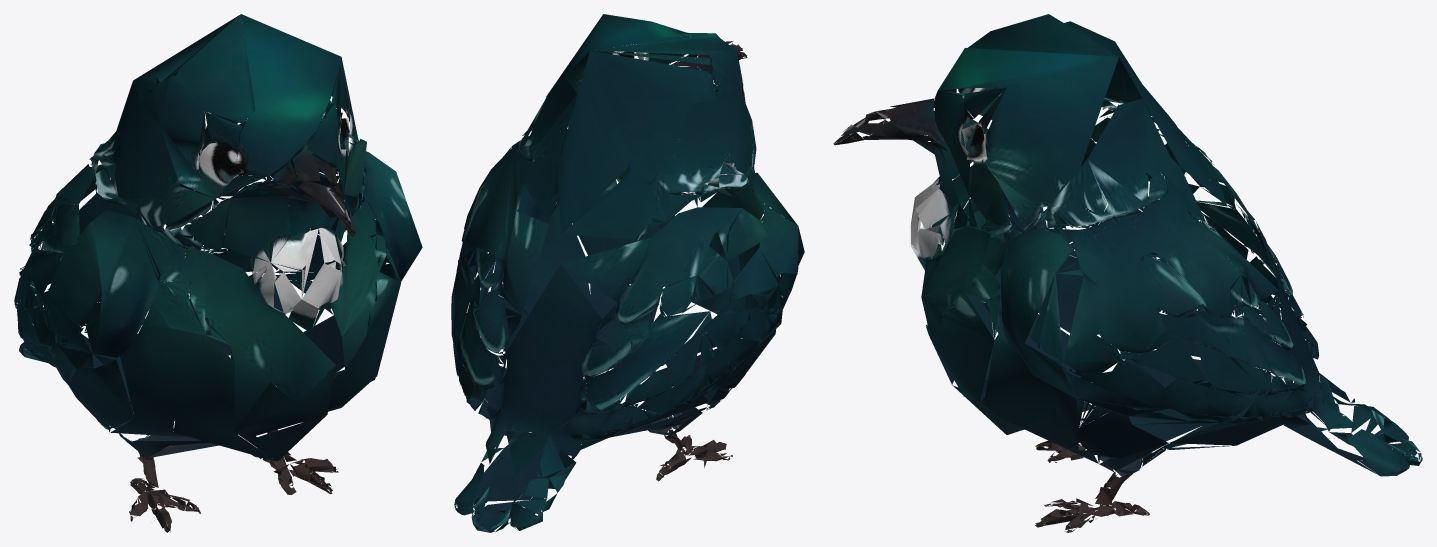
File: tui.glb
The picture shows the model from 3 angles, left to right: view 1: azimuth 30°, elevation 25°; view 2: azimuth 150°, elevation 25°; view 3: azimuth 270°, elevation 25°; orthographic projection. The views are drawn at different scales.
Visible parts, largest first — view 1: model; view 2: model; view 3: model.
Part boxes in pixels (left/top/right/bottom): model: left=14, top=14, right=422, bottom=532; model: left=451, top=14, right=804, bottom=532; model: left=833, top=14, right=1422, bottom=532.
Size of the model in its own units: 1.26 by 1.62 by 1.9.
1 material, 1 textured.
